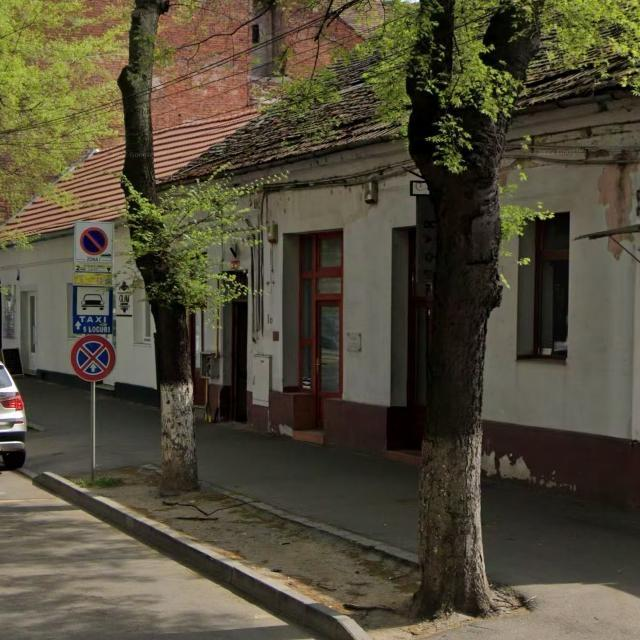forb_waiting: (71, 335, 116, 381)
